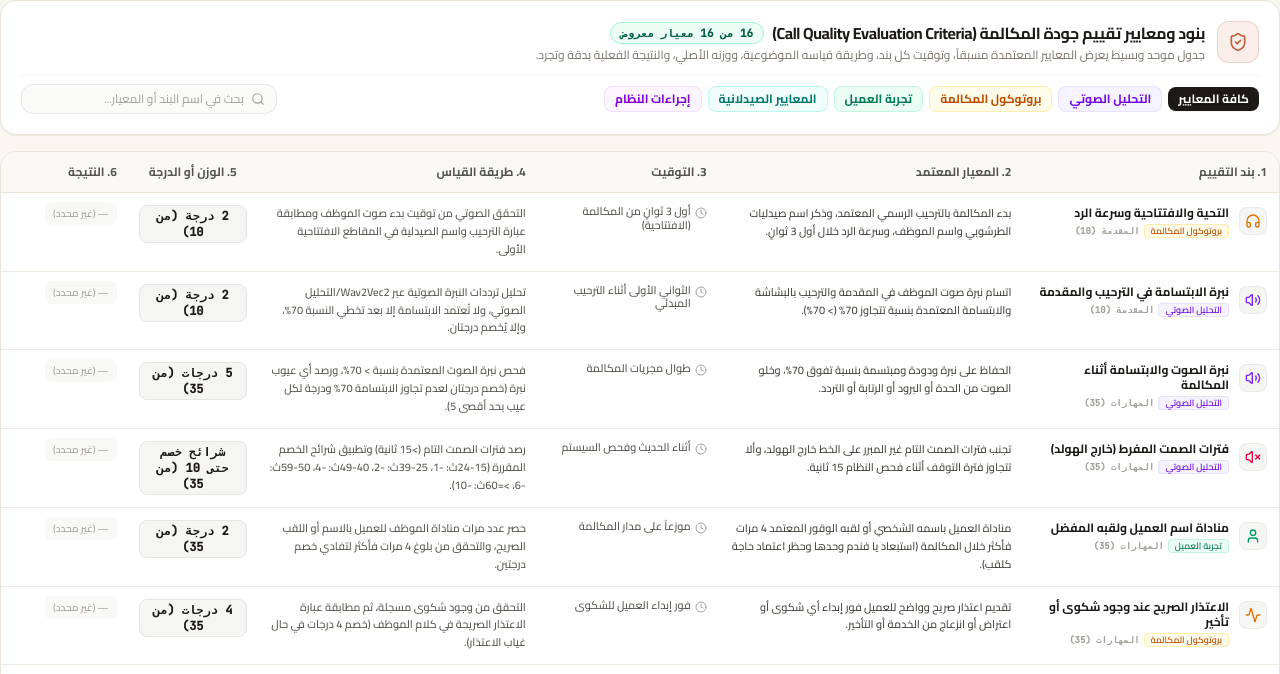
Scenario: CallQualityCriteriaView › filters criteria properly using the search input
The image size is (1280, 674).
Type "الهولد" into the field with placeholder "بحث في اسم البند أو المعيار..." at [149, 99], box top-left (21, 84), bottom-right (277, 114)
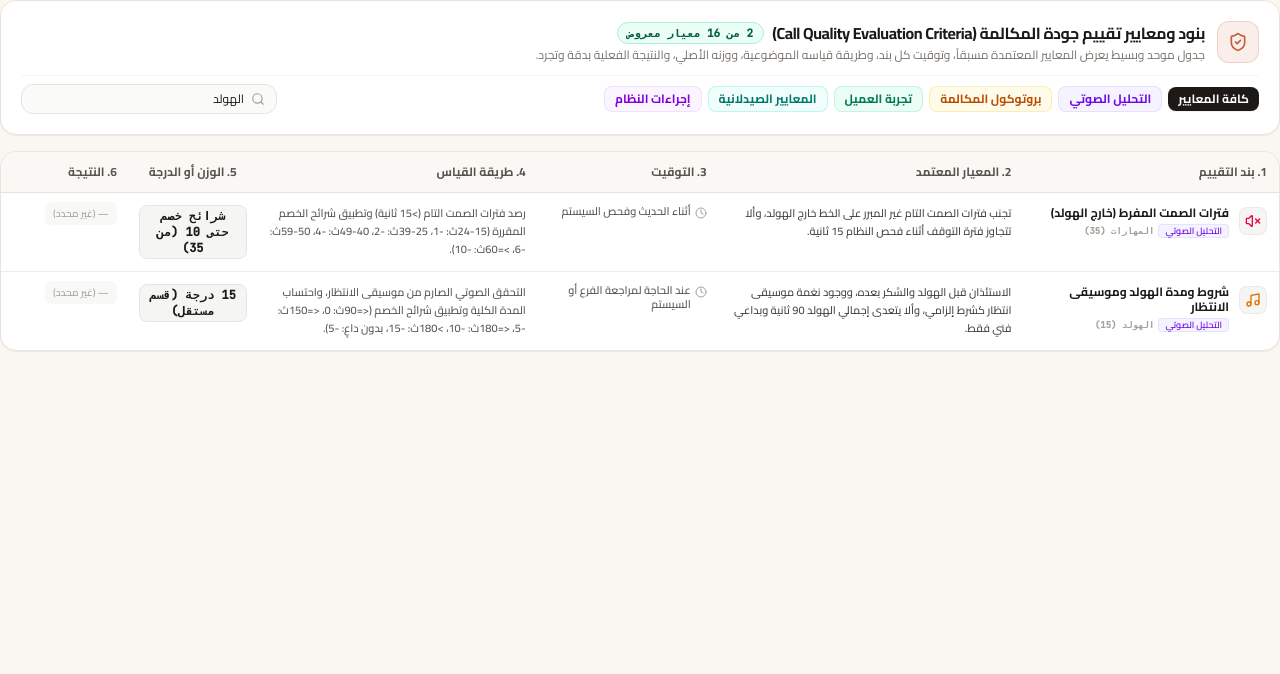
Check: the text "شروط ومدة الهولد وموسيقى الانتظار" is shown, box top-left (1069, 280), bottom-right (1229, 318)
Check: the text "التحية والافتتاحية وسرعة الرد" is gone
